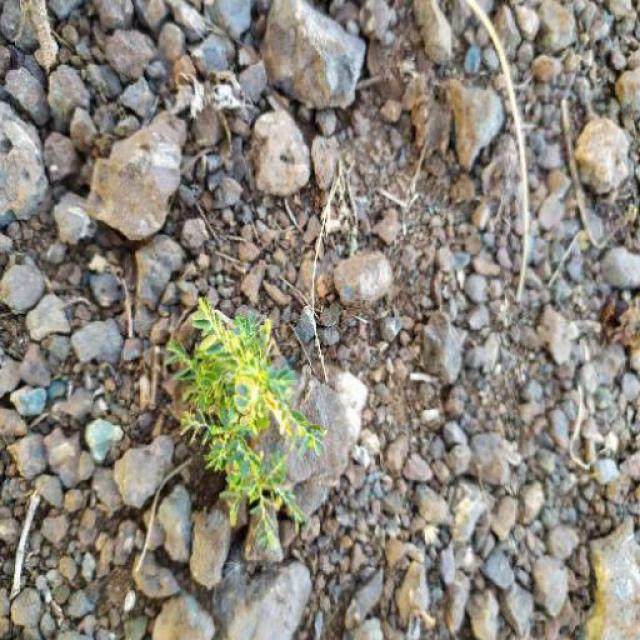weed: (174, 300, 340, 562)
